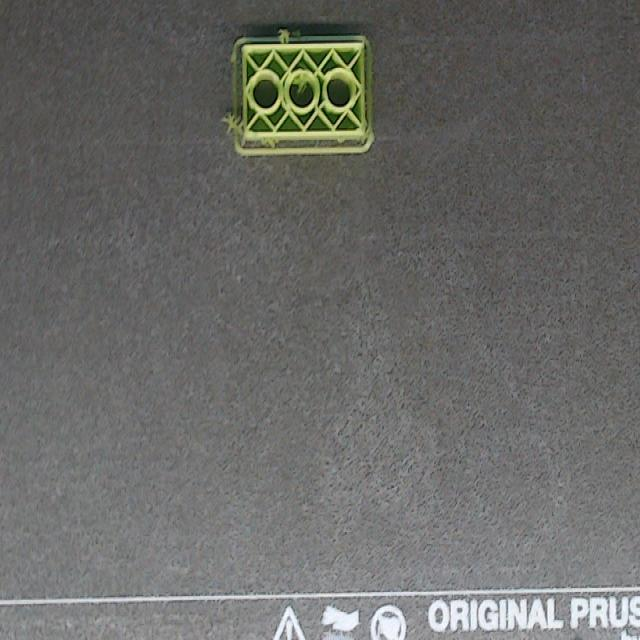mistake: (293, 77, 311, 101), (241, 139, 288, 148), (275, 28, 297, 43), (224, 117, 241, 133), (364, 123, 373, 151), (338, 135, 352, 144)
